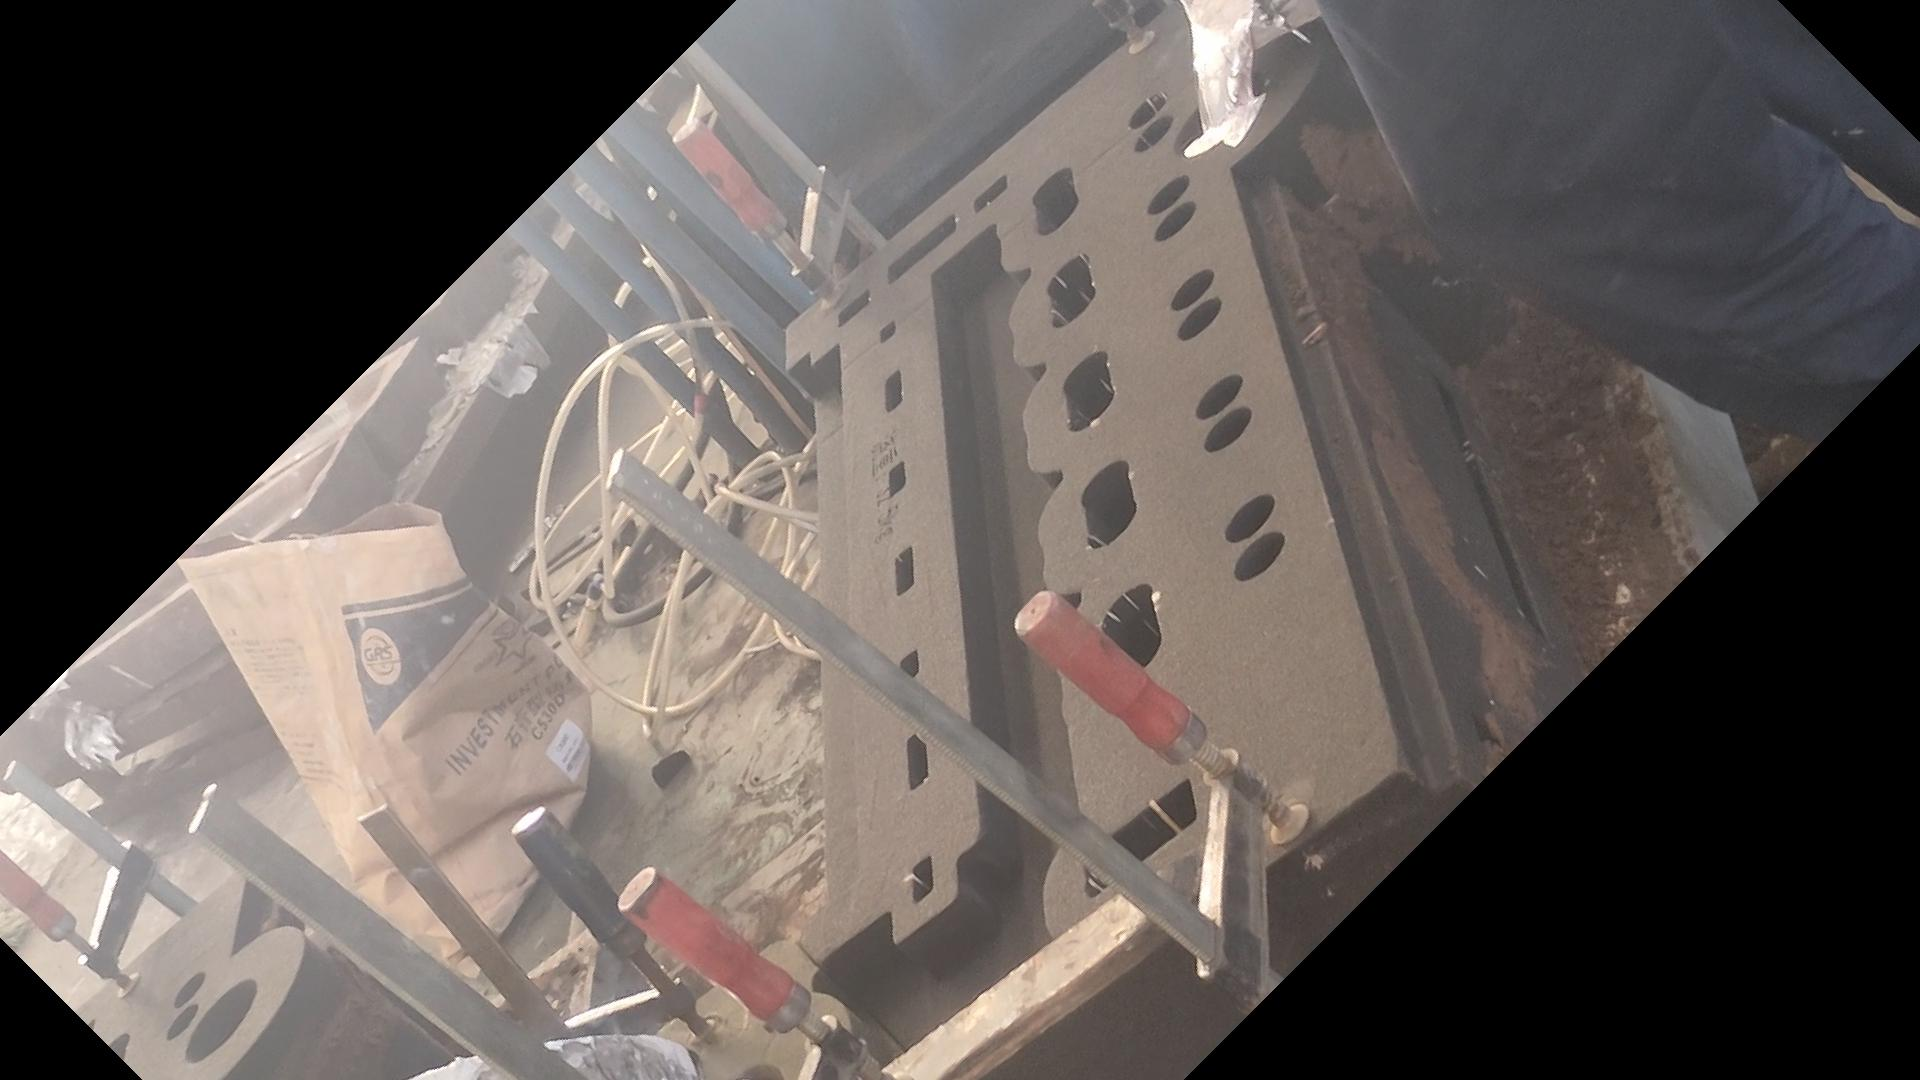pouring hole: (1174, 69, 1265, 156), (182, 977, 258, 1065), (729, 1063, 785, 1080)
